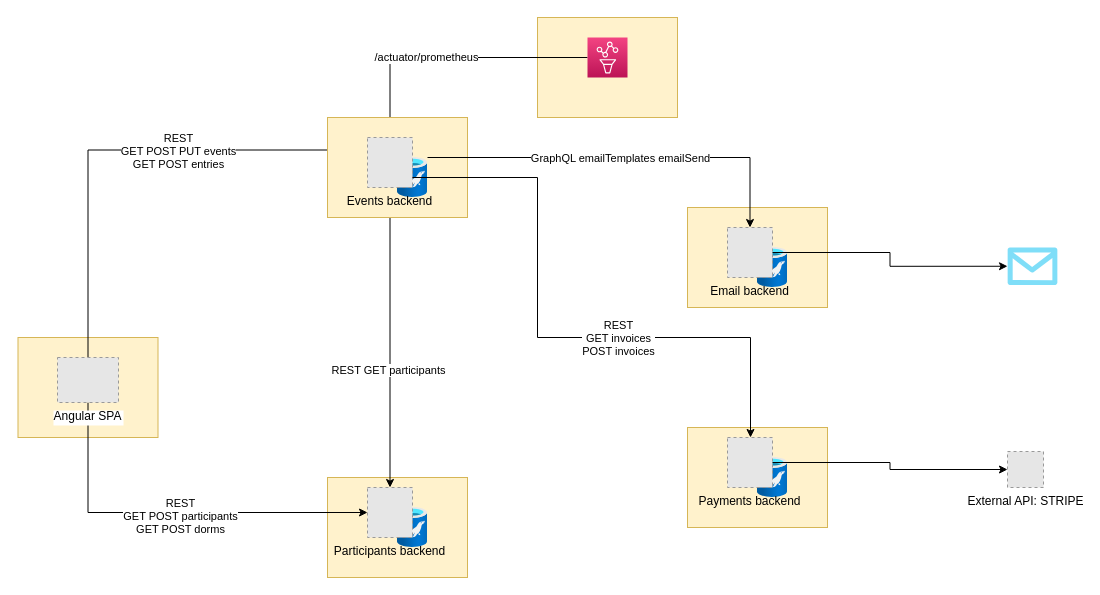
Image size: 1100x595. Some labels were removed from this diagram. Grey dashed boxes stand in for pictures. The shapes that lost their labels are listed below. From the top down, each one's box as (x1, y1, x2, y2) in pixels, then its label:
(586, 36, 628, 78): Prometheus
(1007, 247, 1057, 284): External API: email
